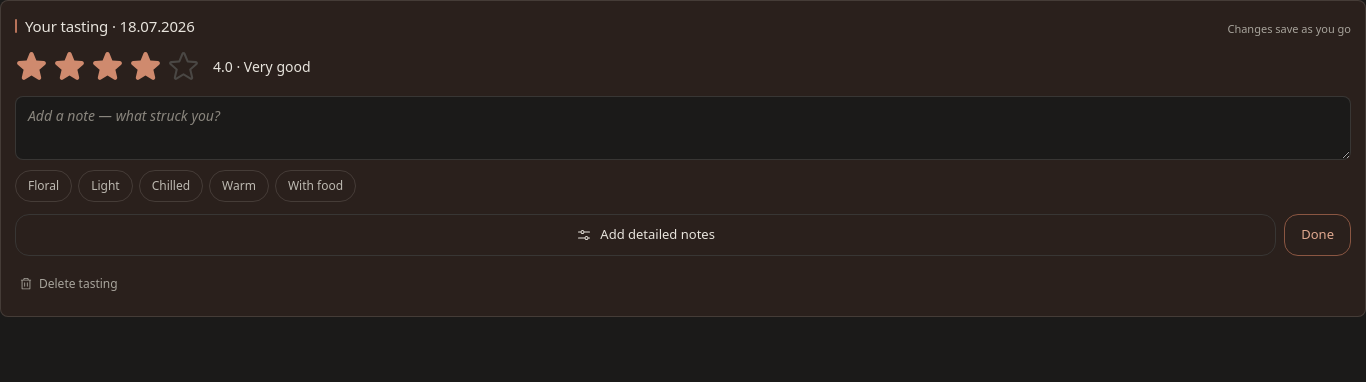
Test case: §5 log panel with no connection (design v1.9 S6) › keeps a quick tag tapped offline, says it is not in the journal yet, and sends it on Try again
Click the button with test id "tasting-tag-warm" at (239, 186), box [209,170,269,202]
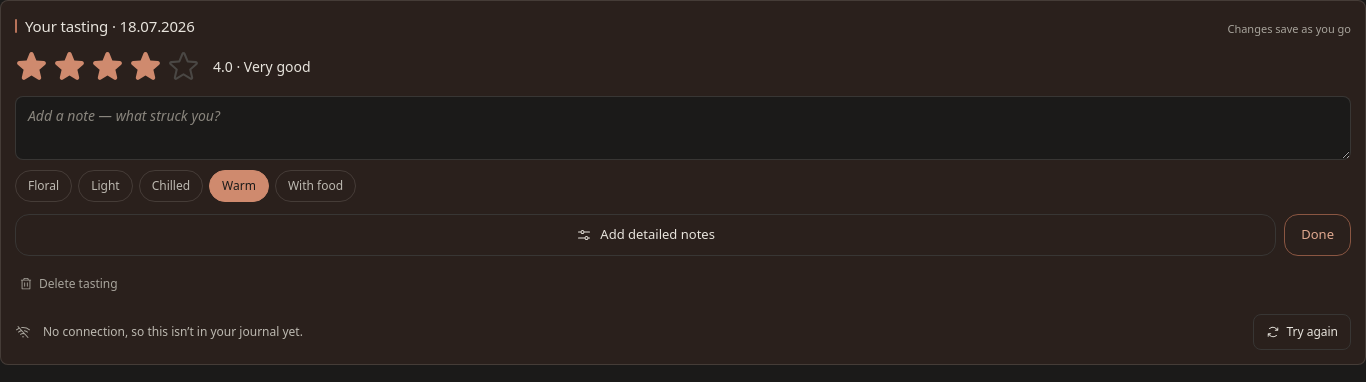
Expected: the message with test id "tasting-log-not-saved" shows "No connection, so this isn’t in your journal yet.", [43,323,303,340]
Expected: the button with test id "tasting-log-try-again" is enabled
Click the button with test id "tasting-log-try-again" at (1302, 332), box [1253,314,1351,350]
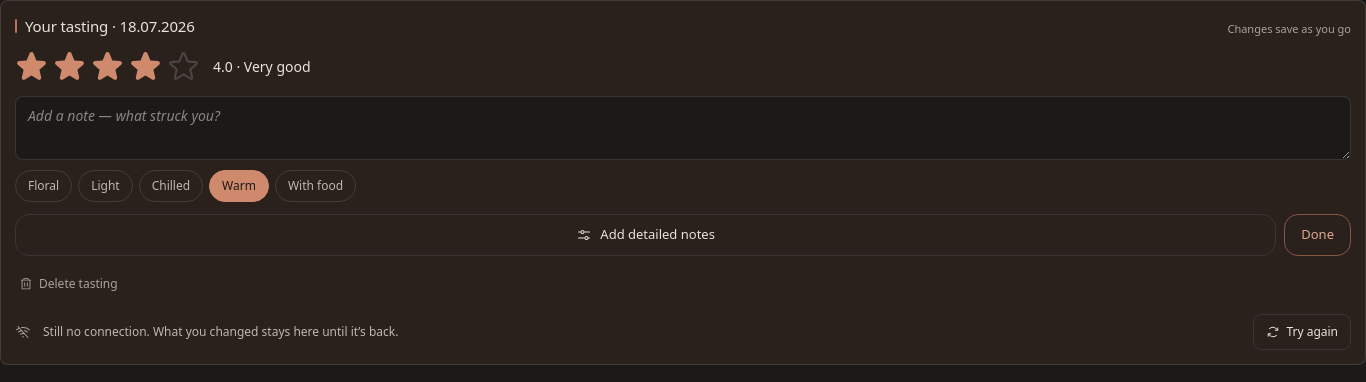
Expected: the button with test id "tasting-log-try-again" is enabled
Expected: the message with test id "tasting-log-not-saved" shows "Still no connection. What you changed stays here until it’s back.", [43,323,398,340]
Click the button with test id "tasting-log-try-again" at (1302, 332), box [1253,314,1351,350]
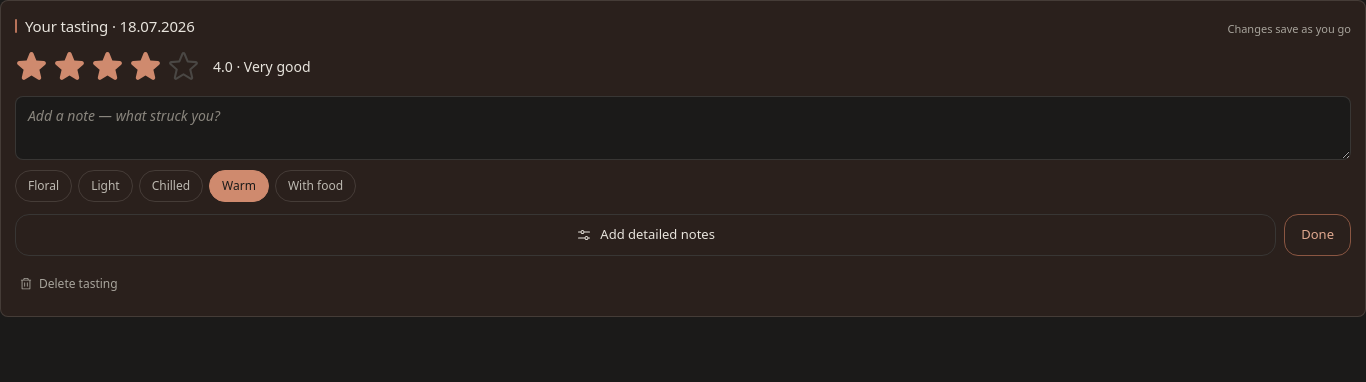
Expected: the message with test id "tasting-log-not-saved" is gone
